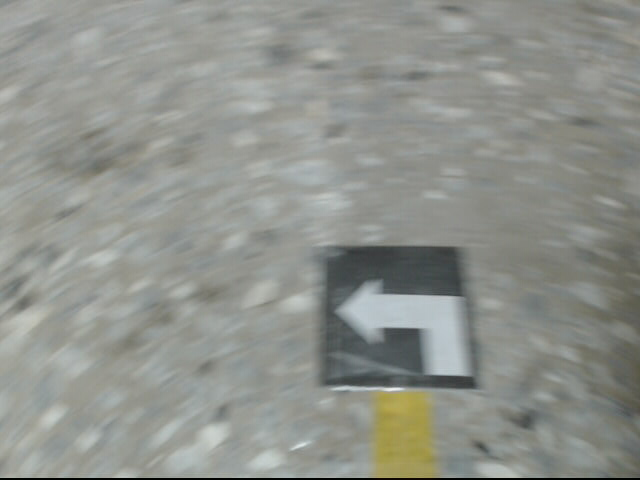left: (315, 240, 483, 394)
